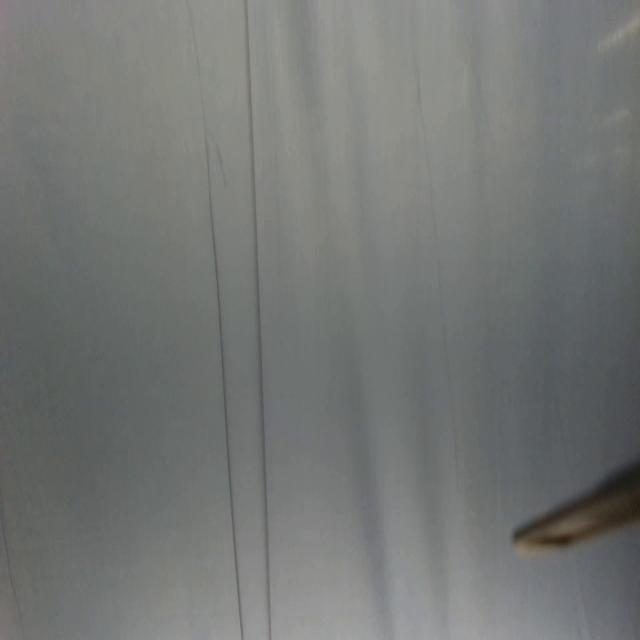crease: (184, 0, 244, 640), (411, 47, 461, 492), (243, 0, 275, 639), (0, 505, 26, 640)
